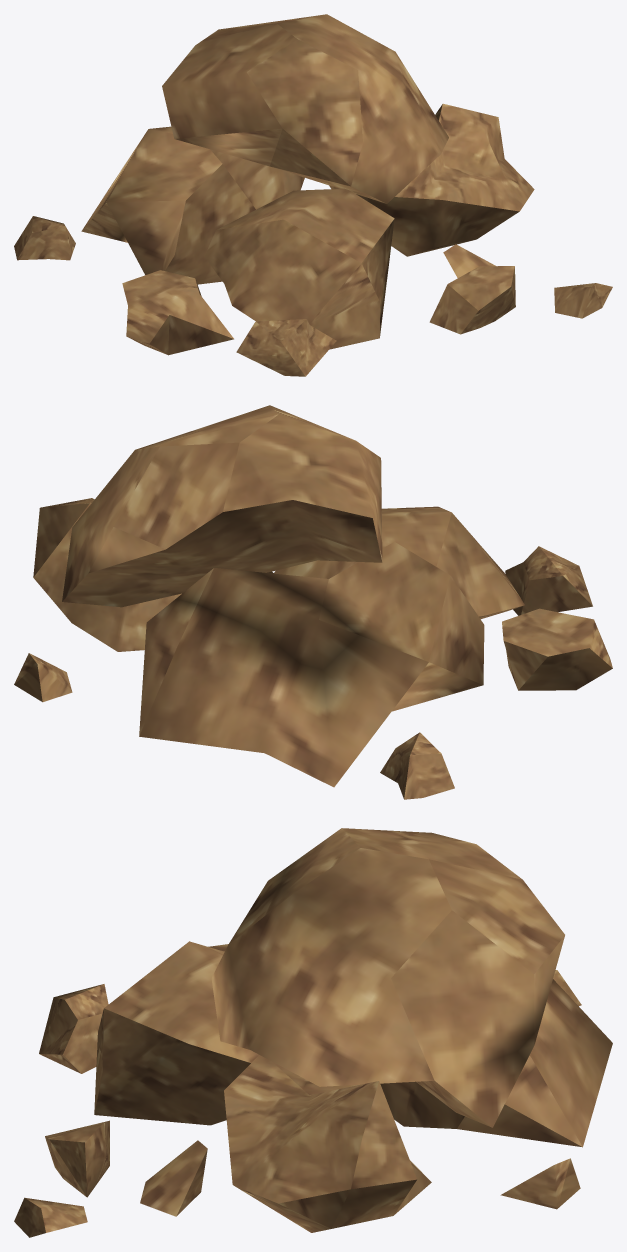
Rendered from Rock_d_l01.fbx.
The picture shows the model from 3 angles, top to bottom: view 1: azimuth 30°, elevation 25°; view 2: azimuth 150°, elevation 25°; view 3: azimuth 270°, elevation 25°; orthographic projection. The views are drawn at different scales.
Visible parts, largest first — view 1: Rock_d_l01; view 2: Rock_d_l01; view 3: Rock_d_l01.
Boxes of the visible parts, x1,y1,x2,y2 form: Rock_d_l01: [14, 14, 612, 376]; Rock_d_l01: [14, 405, 612, 799]; Rock_d_l01: [14, 828, 612, 1237].
Size of the model in its own units: 3.24 by 1.61 by 3.02.
